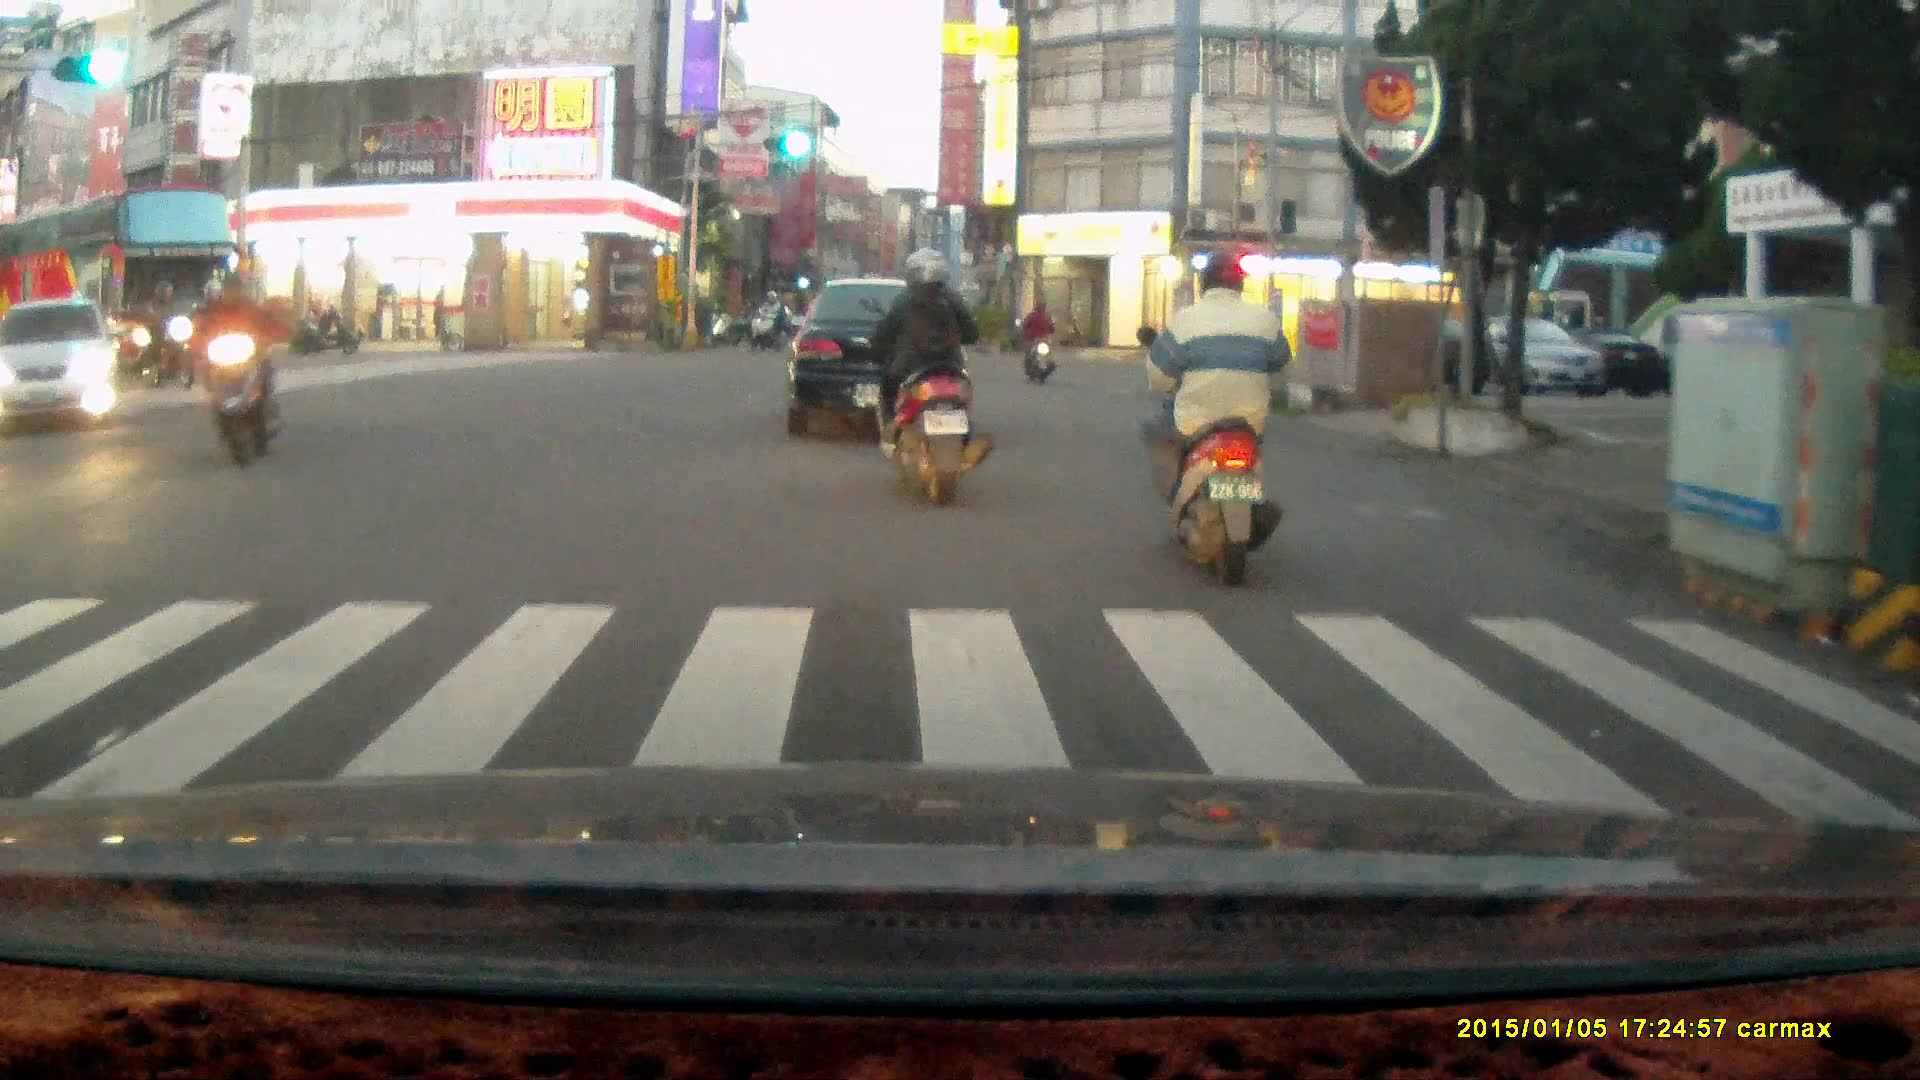rider: (1135, 243, 1291, 578), (856, 234, 997, 502), (186, 269, 281, 472), (190, 274, 249, 407), (139, 275, 197, 391), (1016, 285, 1058, 376), (743, 290, 778, 355)
vehicle: (1, 189, 238, 387), (1413, 312, 1610, 399), (1, 298, 127, 429)
